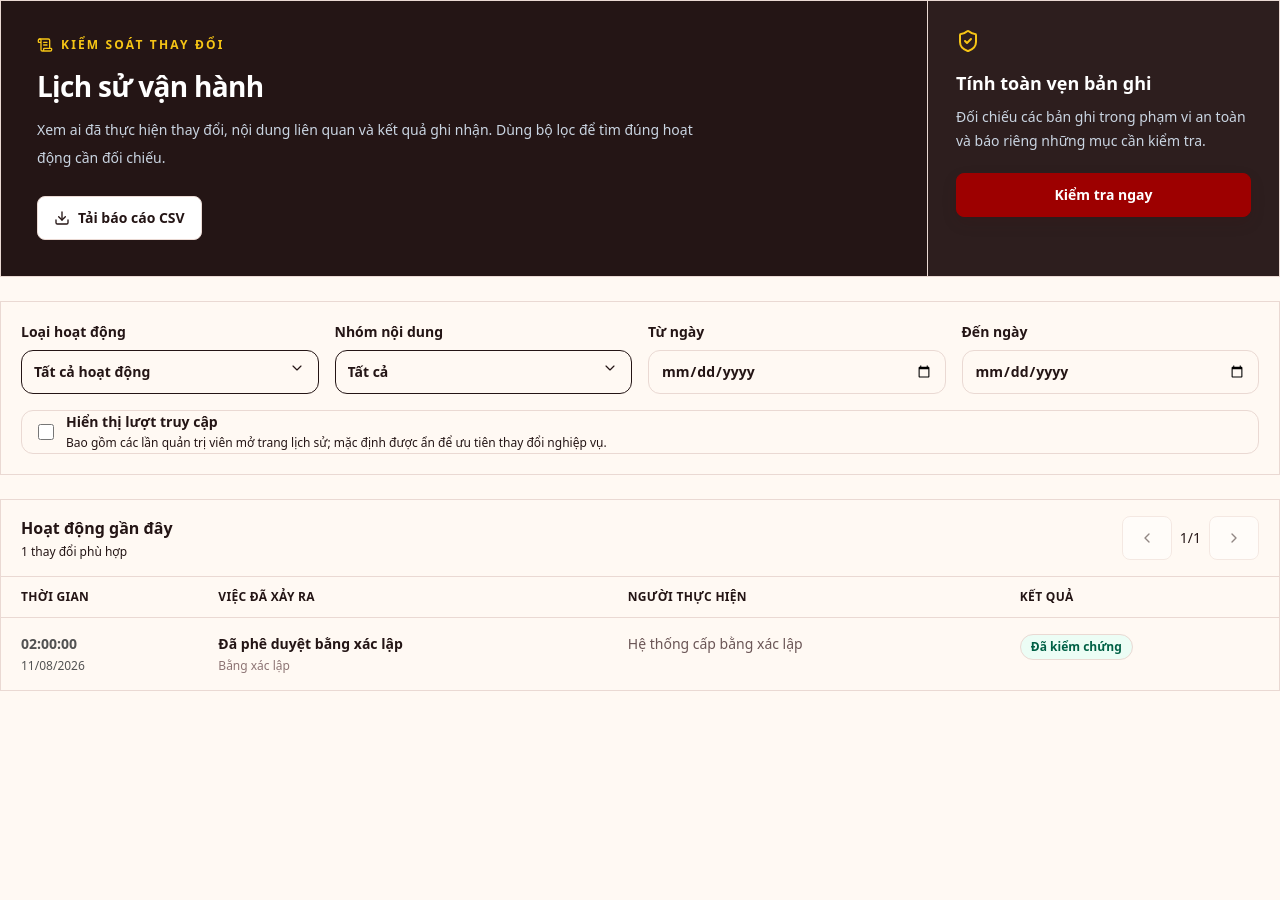
Test case: AuditWorkspace › applies task-oriented filters and reports integrity exceptions
Select "Hồ sơ được phê duyệt" in the dropdown labelled "Loại hoạt động" at x=170, y=372, box [21,350,318,394]
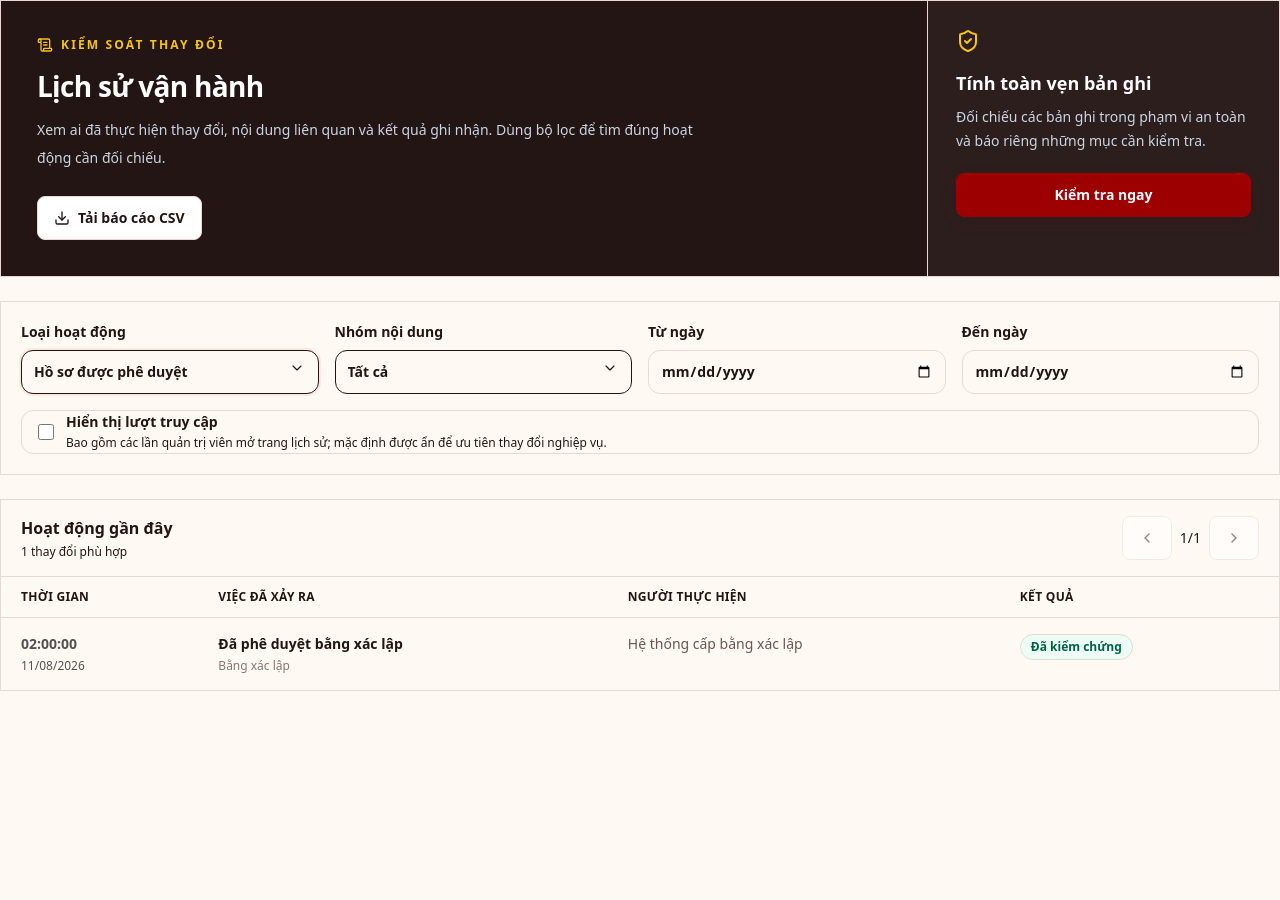
Click the button "Kiểm tra ngay" at x=1104, y=195, box [956,173,1251,217]
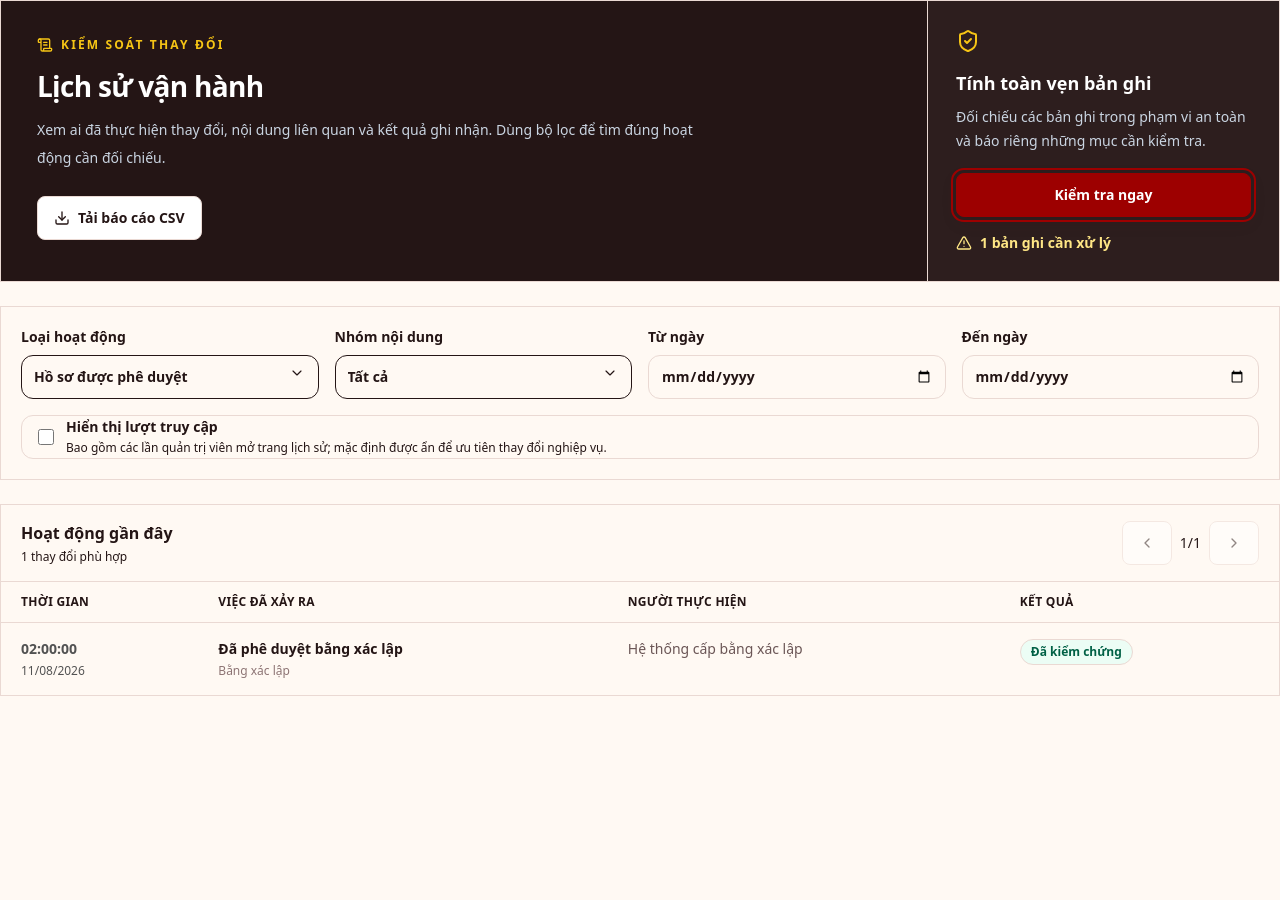
Result: the text "1 bản ghi cần xử lý" is shown at [956,233,1111,252]
